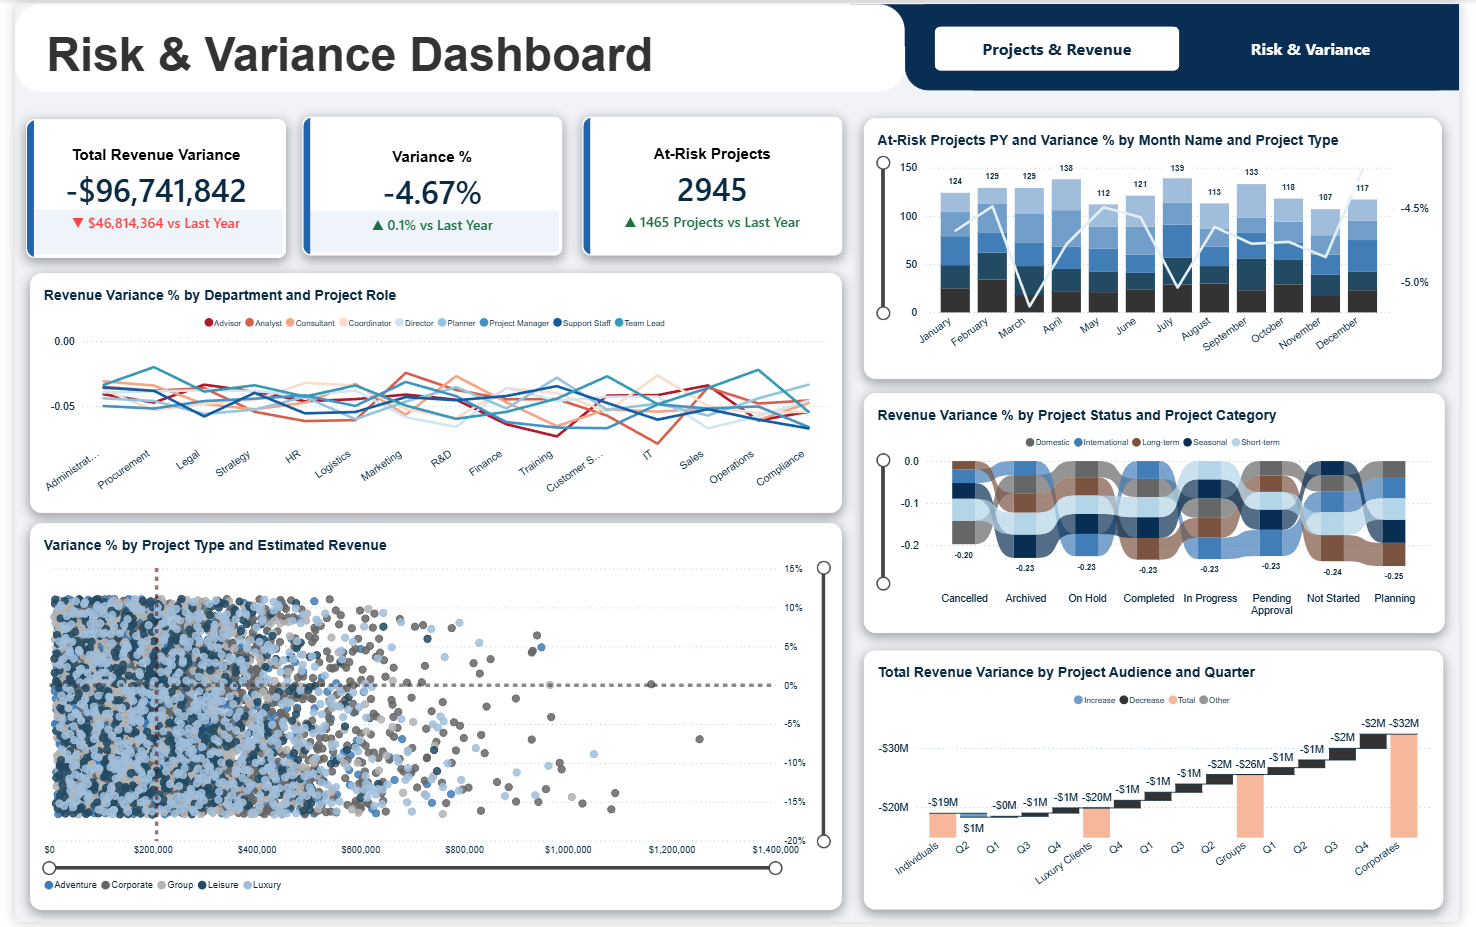

Layout of this report page (visuals, bound fields, positions):
{"tool":"powerbi","page":{"name":"Risk & Variance","canvas":[1650,1050],"ordinal":1},"visuals":[{"type":"shape","box":[1095,1.7,555,98.3],"z":0},{"type":"shape","box":[954,2,696,48],"z":1000},{"type":"shape","box":[1016.7,1.7,633.3,98.3],"z":2000},{"type":"shape","box":[0,2,1017,100],"z":3000},{"type":"textbox","box":[36,28,824,68],"z":4000},{"type":"lineChart","fields":{"Y":["_Key Measures.Revenue Variance ($)"],"Category":["travel_agency_projects.Department"],"Series":["travel_agency_projects.Project Role"]},"box":[17.3,308,928,274],"z":5000},{"type":"ribbonChart","fields":{"Y":["_Key Measures.Revenue Variance %"],"Category":["travel_agency_projects.Project Status"],"Series":["travel_agency_projects.Project Category"]},"box":[970,446,664,274],"z":6000},{"type":"scatterChart","fields":{"X":["travel_agency_projects.Estimated Revenue"],"Series":["travel_agency_projects.Project Type"],"Y":["_Key Measures.Variance %"]},"box":[17.3,594,928,442],"z":7000},{"type":"cardVisual","fields":{"Data":["_Key Measures.Total Revenue Variance"]},"box":[12.9,132.2,296.7,158.3],"z":8000},{"type":"cardVisual","fields":{"Data":["_Key Measures.At-Risk Projects"]},"box":[648.4,130.6,296.8,158.1],"z":9000},{"type":"cardVisual","fields":{"Data":["_Key Measures.Variance %"]},"box":[327.9,130.5,296.7,158.3],"z":10000},{"type":"waterfallChart","fields":{"Y":["_Key Measures.Total Revenue Variance"],"Category":["travel_agency_projects.Project Audience"],"Breakdown":["DateTable.Quarter"]},"box":[970,740,662,296],"z":11000},{"type":"lineStackedColumnComboChart","fields":{"Category":["DateTable.Month Name"],"Y":["_Key Measures.At-Risk Projects PY"],"Y2":["_Key Measures.Variance %"],"Series":["travel_agency_projects.Project Type"]},"box":[969.5,131.2,661.1,298.6],"z":12000},{"type":"pageNavigator","box":[1035,11.7,600,81.7],"z":16000}]}

Visuals, with their boxes in screenshot pixels (x1, y1, x2, y2), scaled from the page's 1650x1050 canvas onto the 1476x927 screenshot:
shape: l=980, t=2, r=1475, b=88
shape: l=853, t=2, r=1475, b=44
shape: l=909, t=2, r=1475, b=88
shape: l=0, t=2, r=910, b=90
textbox: l=32, t=25, r=769, b=85
lineChart - _Key Measures.Revenue Variance ($) x travel_agency_projects.Department: l=15, t=272, r=846, b=514
ribbonChart - _Key Measures.Revenue Variance % x travel_agency_projects.Project Status: l=868, t=394, r=1462, b=636
scatterChart - travel_agency_projects.Estimated Revenue x travel_agency_projects.Project Type: l=15, t=524, r=846, b=915
cardVisual - _Key Measures.Total Revenue Variance: l=12, t=117, r=277, b=256
cardVisual - _Key Measures.At-Risk Projects: l=580, t=115, r=846, b=255
cardVisual - _Key Measures.Variance %: l=293, t=115, r=559, b=255
waterfallChart - _Key Measures.Total Revenue Variance x travel_agency_projects.Project Audience: l=868, t=653, r=1460, b=915
lineStackedColumnComboChart - DateTable.Month Name x _Key Measures.At-Risk Projects PY: l=867, t=116, r=1459, b=379
pageNavigator: l=926, t=10, r=1463, b=82
